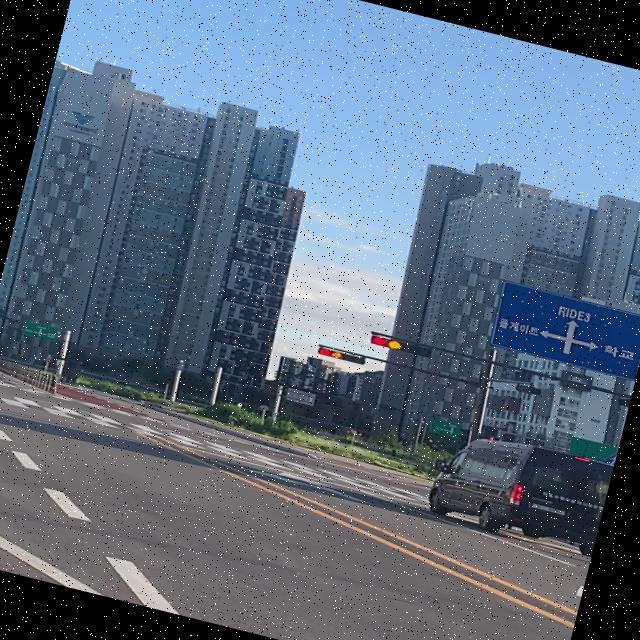yellow_light: (370, 334, 432, 358), (317, 346, 366, 366)
